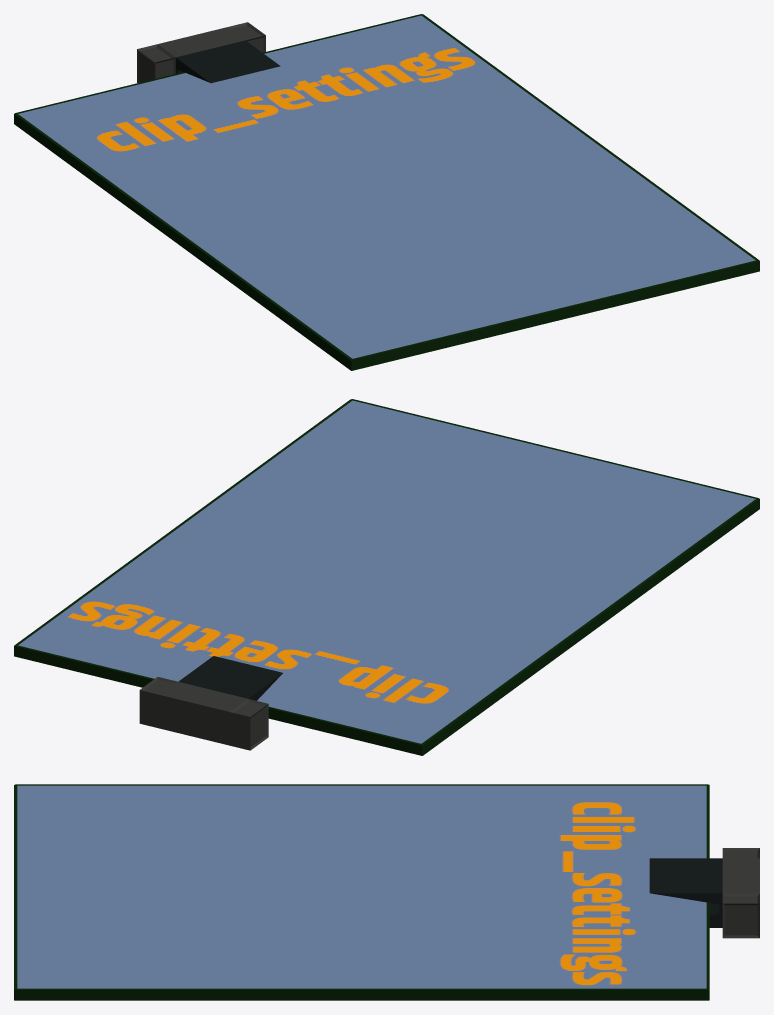
File: clip_settings.obj
The picture shows the model from 3 angles, top to bottom: view 1: azimuth 30°, elevation 25°; view 2: azimuth 150°, elevation 25°; view 3: azimuth 270°, elevation 25°; orthographic projection. The views are drawn at different scales.
Visible parts, largest first — view 1: clip_main; view 2: clip_main; view 3: clip_main.
Boxes of the visible parts, x1,y1,x2,y2 form: clip_main: (14,14,759,370); clip_main: (14,399,759,755); clip_main: (14,784,759,1000).
Bounding box in the file's own units: 0.2144 × 0.0169 × 0.3289.
4 materials, 1 textured.
